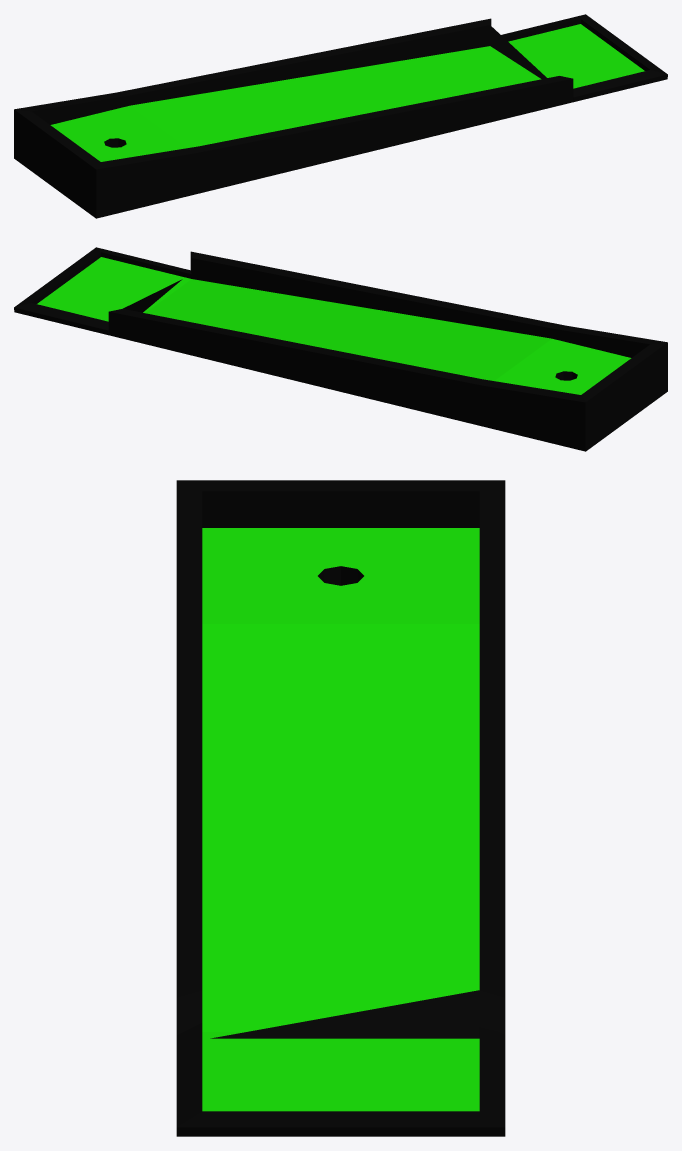
File: GolfBoard.fbx
3 renders of one model, top to bottom at view 1: azimuth 30°, elevation 25°; view 2: azimuth 150°, elevation 25°; view 3: azimuth 270°, elevation 25°, orthographic. The views are drawn at different scales.
Parts seen in each view (by area): view 1: golf_Board; view 2: golf_Board; view 3: golf_Board.
Part boxes in pixels (<box>): golf_Board: <box>14,14,667,218</box>; golf_Board: <box>14,247,667,451</box>; golf_Board: <box>176,480,505,1136</box>.
Bounding box in the file's own units: 1115 × 91.69 × 278.
